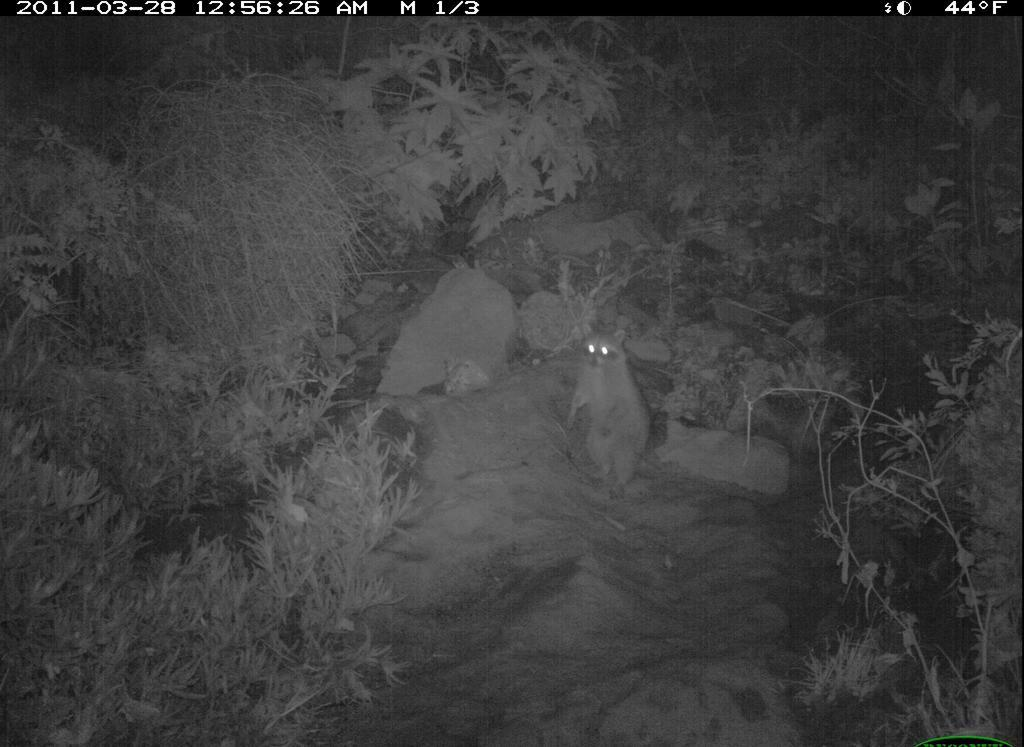raccoon: (560, 308, 666, 507)
